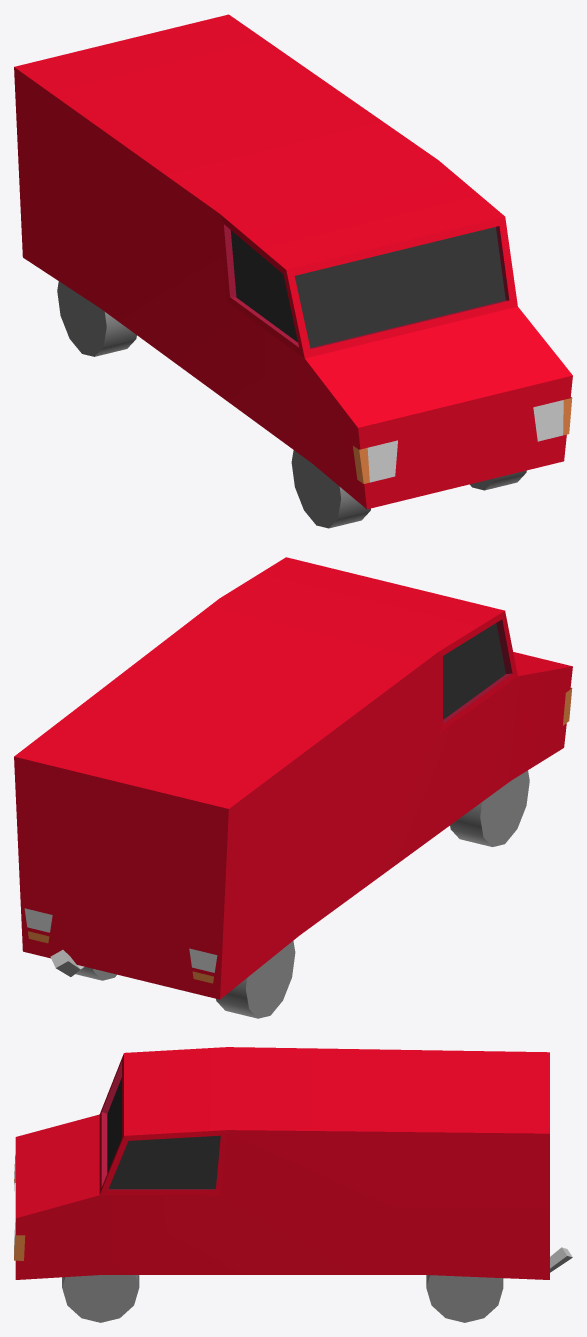
File: van_04.fbx
3 renders of one model, top to bottom at view 1: azimuth 30°, elevation 25°; view 2: azimuth 150°, elevation 25°; view 3: azimuth 270°, elevation 25°, orthographic. The views are drawn at different scales.
Parts seen in each view (by area): view 1: van_04; view 2: van_04; view 3: van_04.
Part boxes in pixels (left/top/right/bottom): van_04: left=14, top=14, right=572, bottom=528; van_04: left=14, top=557, right=572, bottom=1018; van_04: left=14, top=1047, right=572, bottom=1322.
Size of the model in its own units: 1.61 by 1.8 by 4.59.
